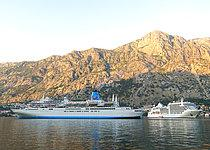Ship: (10, 90, 145, 122)
